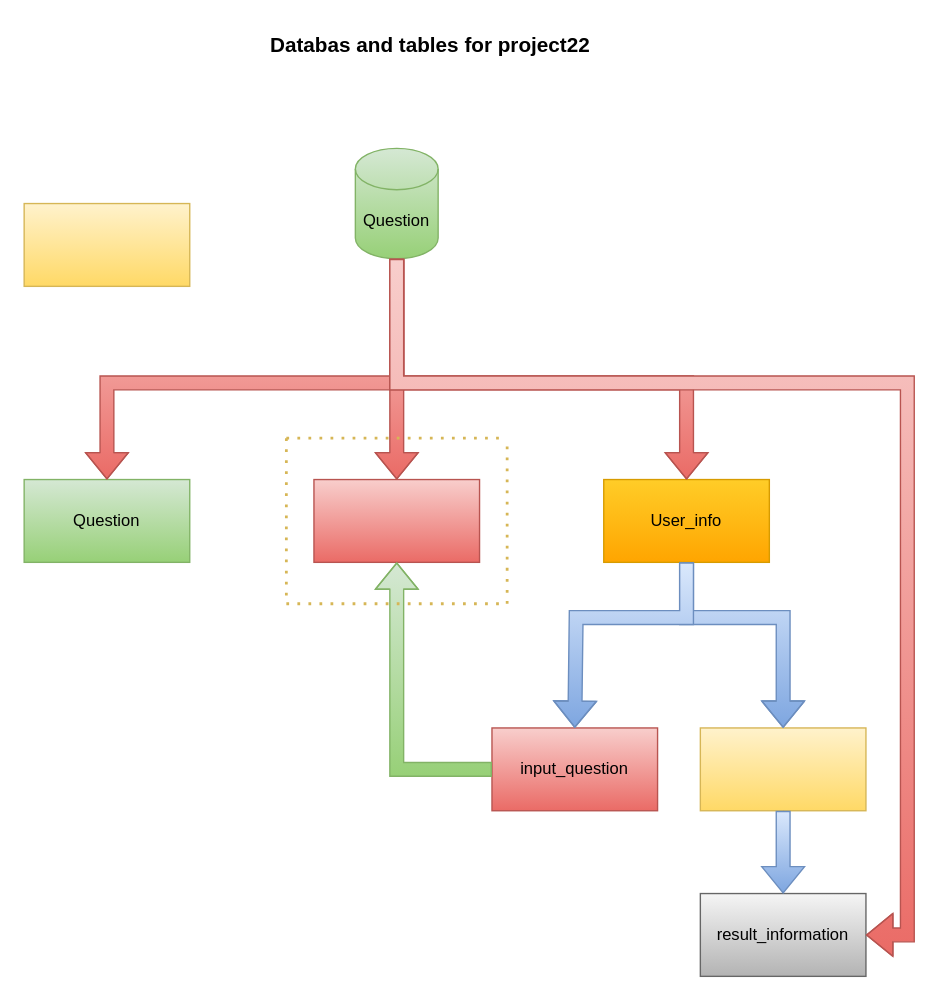
The diagram is 938 pixels wide and 1001 high, and some of its shapes have lost their labels. The box of each missing label's shape, as (x1, y1, x2, y2) in pixels:
Administrator: (23, 202, 190, 286)
result_question: (699, 727, 866, 811)
Sub_input_question: (313, 478, 480, 562)
